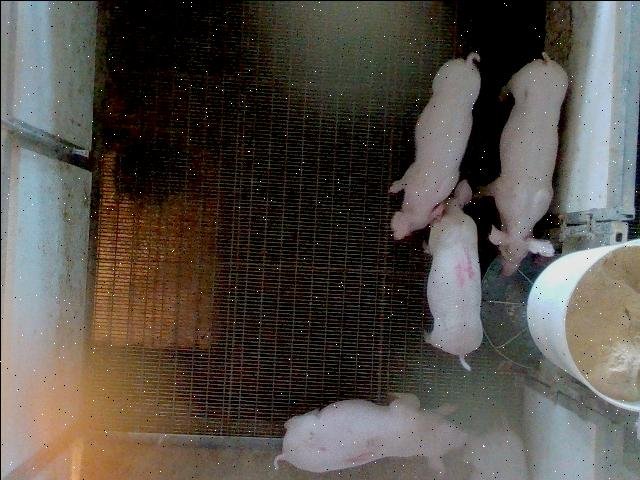pig-1: (274, 392, 466, 476)
pig-4: (424, 180, 482, 368)
